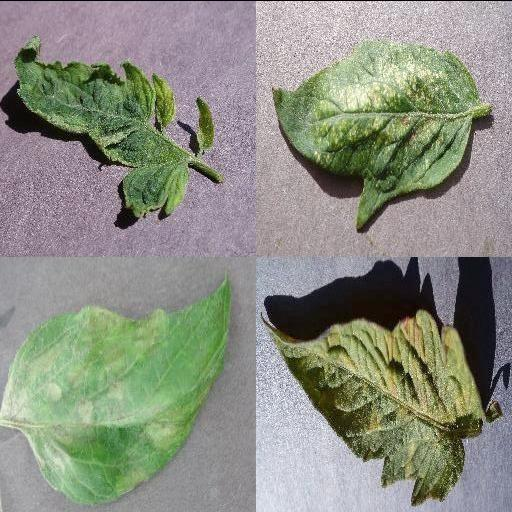Late Blight: (0, 272, 239, 508)
Leaf Mold: (258, 308, 484, 504)
Mosaic Virus: (13, 32, 215, 218)
Spider Mites: (272, 39, 480, 231)
